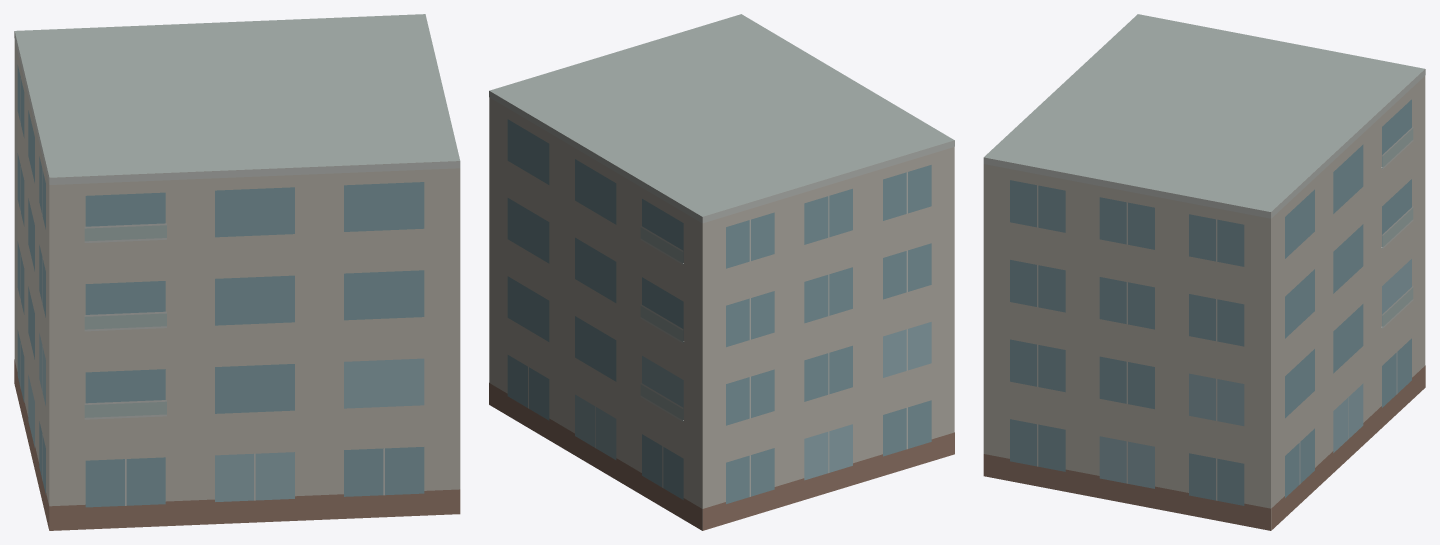
Rendered from survey-upis-32668593.glb.
The picture shows the model from 3 angles, left to right: view 1: azimuth 30°, elevation 25°; view 2: azimuth 150°, elevation 25°; view 3: azimuth 270°, elevation 25°; orthographic projection. The views are drawn at different scales.
Parts seen in each view (by area): view 1: survey-upis-32668593.tmp; view 2: survey-upis-32668593.tmp; view 3: survey-upis-32668593.tmp.
Part boxes in pixels (x1,y1,x2,y2): survey-upis-32668593.tmp: (14, 14, 460, 530); survey-upis-32668593.tmp: (489, 14, 954, 530); survey-upis-32668593.tmp: (983, 14, 1425, 530).
Bounding box in the file's own units: 15.65 × 11.73 × 14.75.
